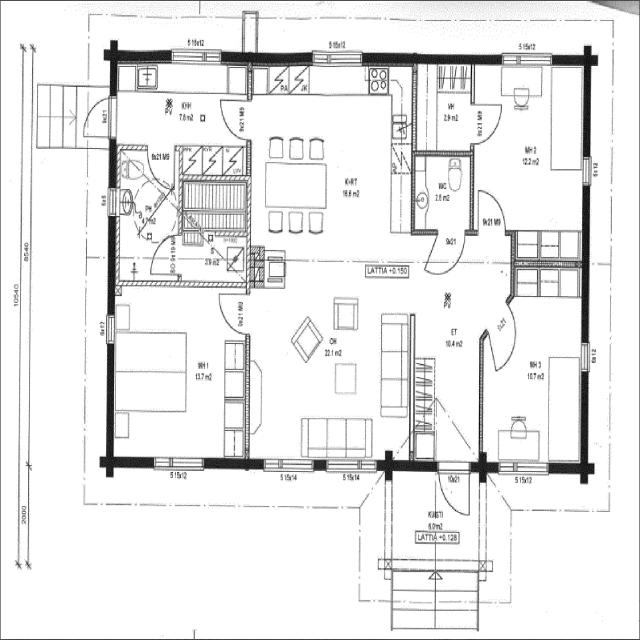door: (413, 153, 476, 235), (434, 459, 473, 519), (425, 228, 466, 279), (82, 92, 120, 144), (214, 286, 248, 340), (468, 99, 505, 147), (217, 94, 251, 143), (474, 184, 508, 232), (147, 232, 179, 276), (544, 213, 560, 234)
window: (147, 451, 210, 480), (258, 453, 318, 480), (309, 46, 368, 72), (163, 46, 225, 70), (498, 49, 559, 71), (504, 457, 552, 482), (324, 456, 364, 478), (100, 310, 118, 350), (578, 339, 592, 382), (580, 152, 593, 192), (105, 186, 118, 218)
zone: (246, 263, 412, 462), (252, 61, 408, 271), (110, 275, 251, 462), (113, 62, 250, 236), (480, 262, 586, 470), (474, 60, 587, 237), (412, 153, 474, 233), (414, 87, 476, 156), (542, 226, 584, 270), (146, 233, 180, 276)
